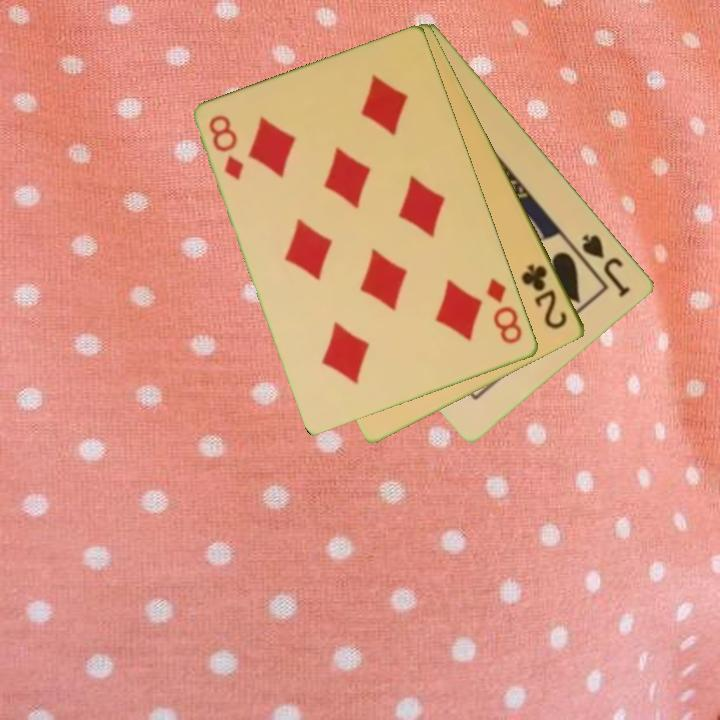2c: (518, 260, 571, 333)
8d: (483, 275, 526, 348), (205, 111, 248, 184)
Js: (578, 230, 634, 301)
